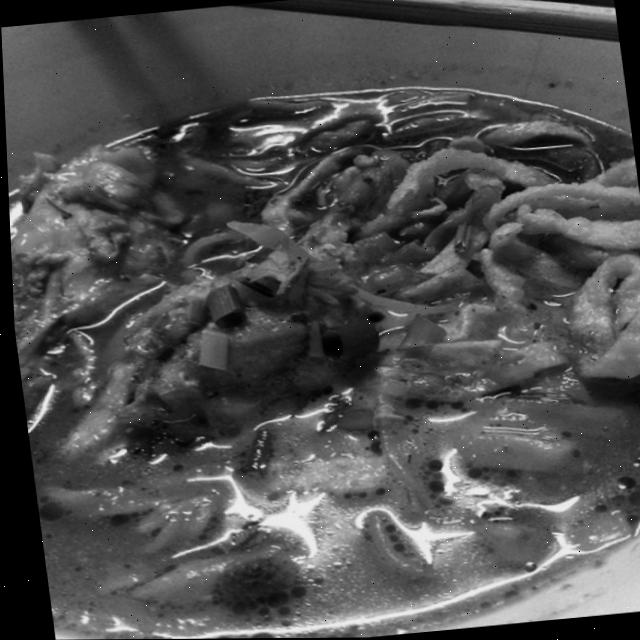面条主食: (1, 15, 640, 640)
